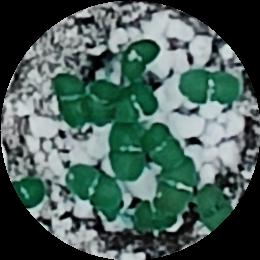Basil: (68, 163, 122, 213), (179, 68, 243, 105), (198, 182, 237, 240), (106, 123, 143, 181), (155, 160, 192, 214), (83, 76, 120, 124), (150, 125, 189, 167), (119, 40, 157, 78), (55, 76, 83, 125)
